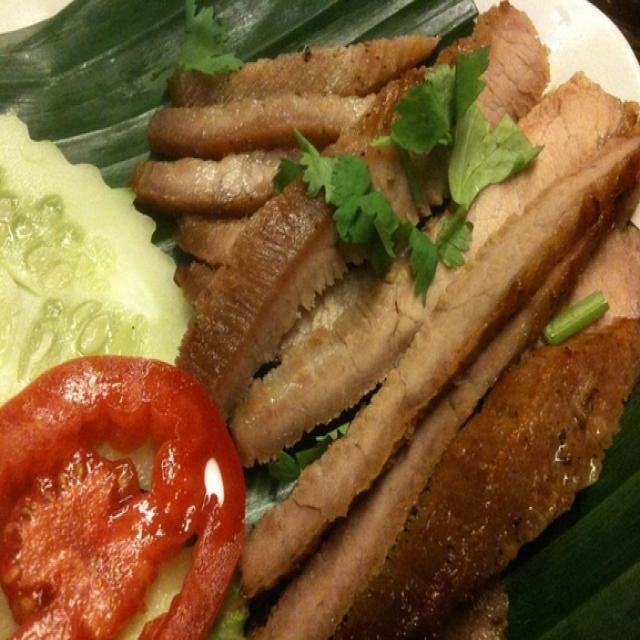猪肉菜式: (20, 13, 603, 634)
